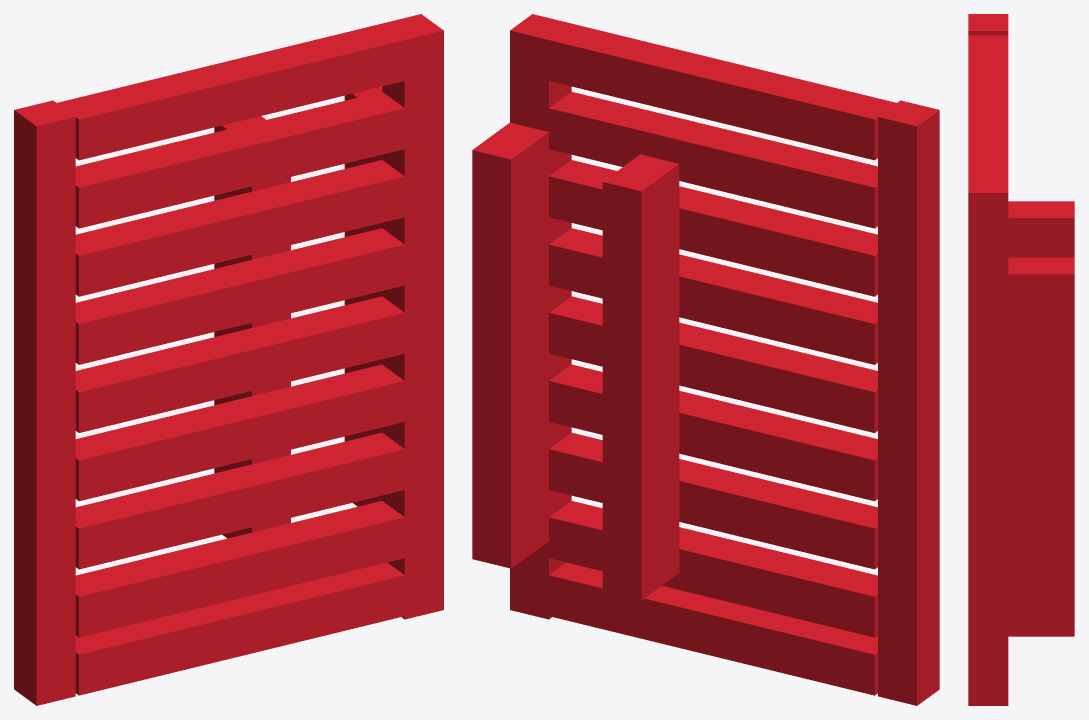
The model's file is tinker.obj.
3 renders of one model, left to right at view 1: azimuth 30°, elevation 25°; view 2: azimuth 150°, elevation 25°; view 3: azimuth 270°, elevation 25°, orthographic. The views are drawn at different scales.
Visible parts, largest first — view 1: obj_0; view 2: obj_0; view 3: obj_0.
Part boxes in pixels (left/top/right/bottom): obj_0: left=14, top=14, right=443, bottom=705; obj_0: left=472, top=14, right=939, bottom=705; obj_0: left=968, top=14, right=1074, bottom=705.
Size of the model in its own units: 125 by 171 by 32.
